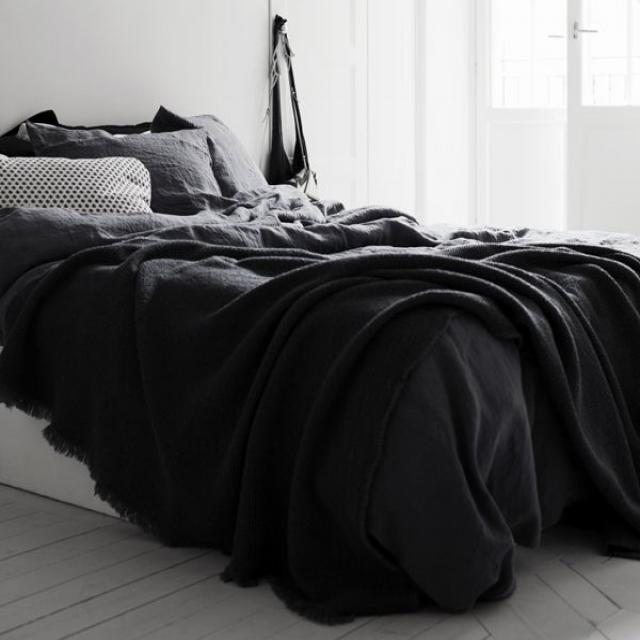bed: (3, 125, 640, 555)
